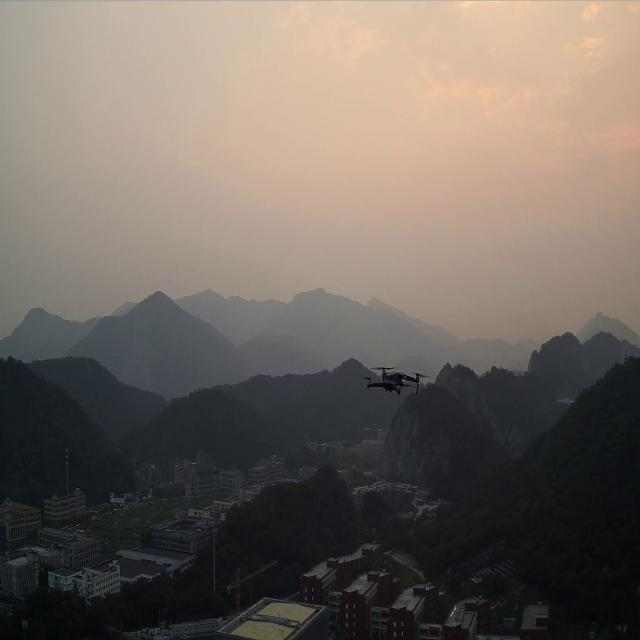UAV: (361, 362, 432, 398)
